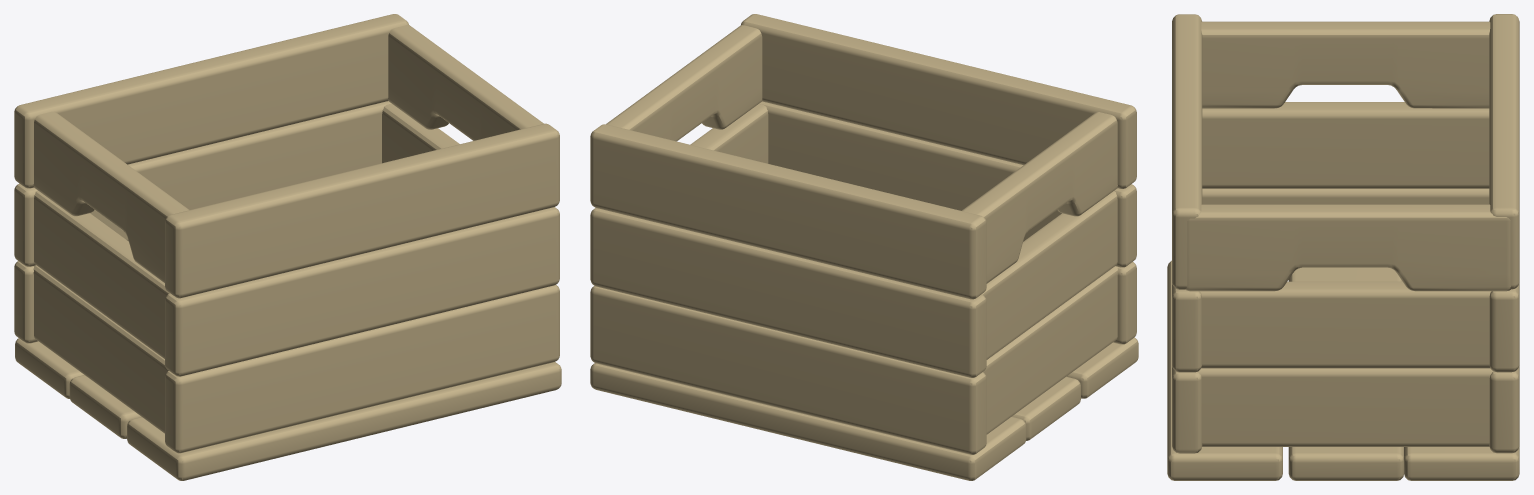
3 views of the same model, side by side, from view 1: azimuth 30°, elevation 25°; view 2: azimuth 150°, elevation 25°; view 3: azimuth 270°, elevation 25° (orthographic). The views are drawn at different scales.
Parts seen in each view (by area): view 1: L_Box2_E_box4_box3; view 2: L_Box2_E_box4_box3; view 3: L_Box2_E_box4_box3.
Part boxes in pixels (box(x1,y1,x2,y2)): L_Box2_E_box4_box3: box(14, 14, 561, 480); L_Box2_E_box4_box3: box(590, 14, 1138, 480); L_Box2_E_box4_box3: box(1167, 14, 1519, 480).
Bounding box in the file's own units: 13.77 × 8.78 × 10.28.
